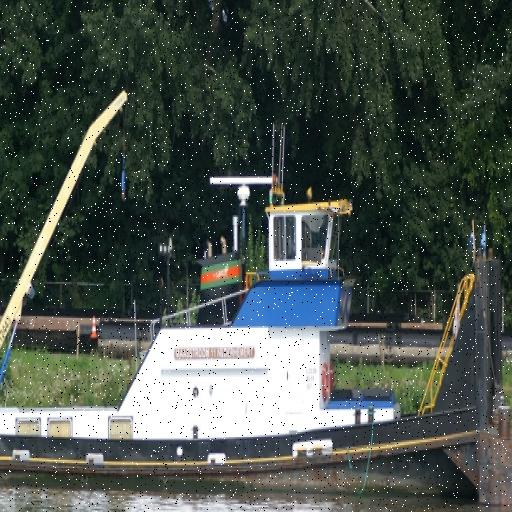tugboat: (1, 174, 508, 512)
